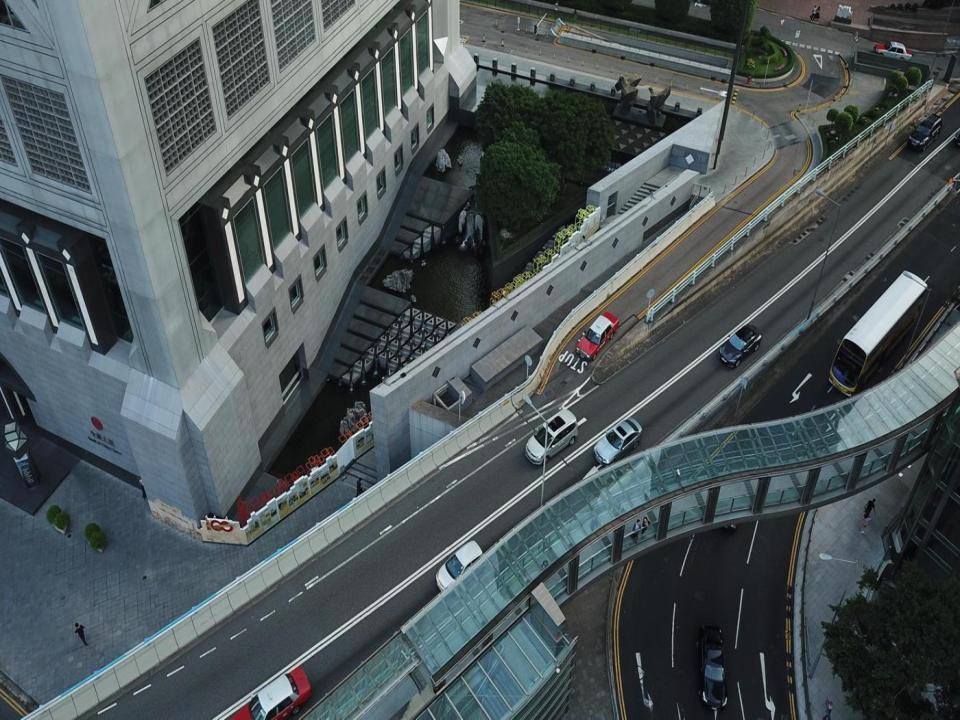bus: (828, 270, 929, 398)
car: (230, 663, 310, 719), (526, 408, 578, 463), (698, 625, 729, 709), (436, 541, 483, 590), (577, 311, 620, 362), (713, 460, 743, 531), (596, 417, 641, 464), (718, 324, 760, 369), (909, 113, 942, 151), (873, 37, 913, 64)
